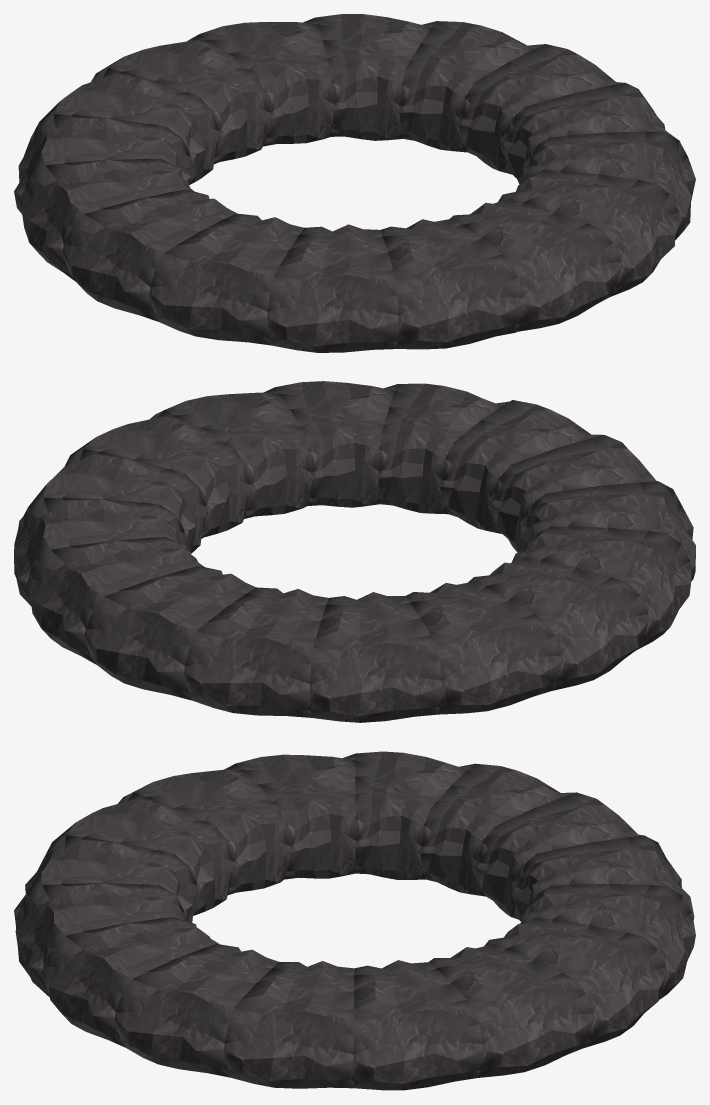
The model's file is Segmento Cueva Fin.fbx.
The picture shows the model from 3 angles, top to bottom: view 1: azimuth 30°, elevation 25°; view 2: azimuth 150°, elevation 25°; view 3: azimuth 270°, elevation 25°; orthographic projection.
Visible parts, largest first — view 1: Cave Walls; view 2: Cave Walls; view 3: Cave Walls.
Boxes of the visible parts, x1,y1,x2,y2 form: Cave Walls: [14, 14, 695, 352]; Cave Walls: [14, 381, 695, 722]; Cave Walls: [14, 751, 695, 1090].
Bounding box in the file's own units: 5982 × 752 × 5983.
